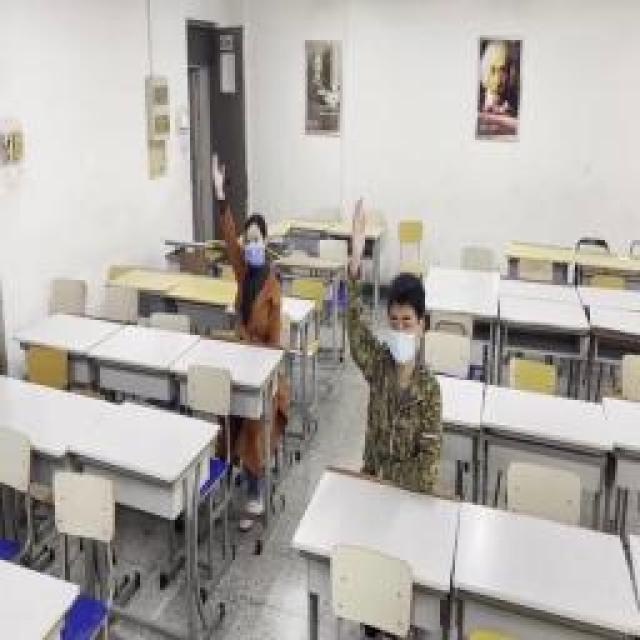study: (343, 205, 435, 475), (212, 152, 278, 338)
